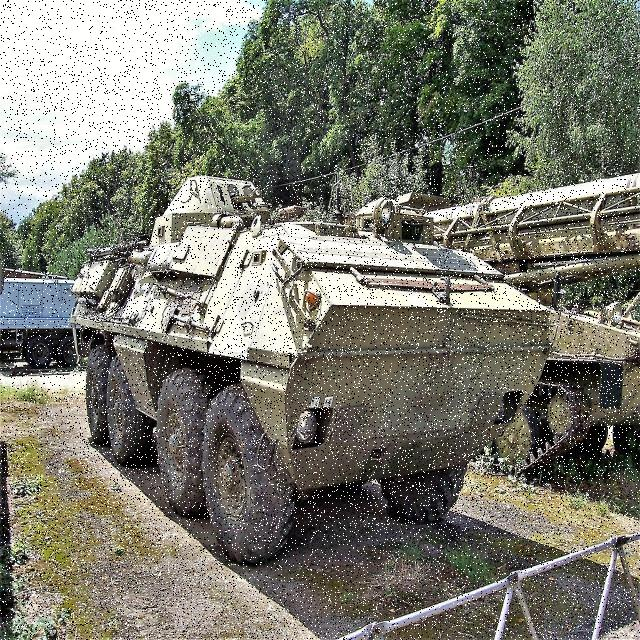MIL_MBT: (80, 175, 526, 541), (459, 192, 631, 480)
